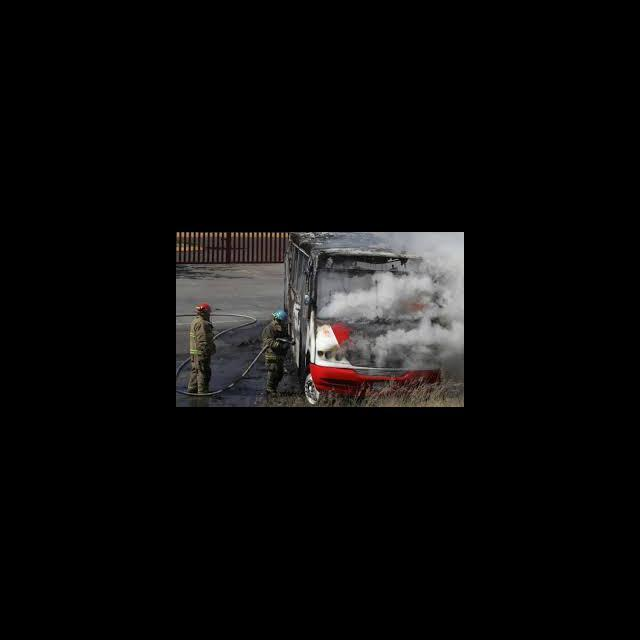Smoke: (318, 232, 463, 366)
